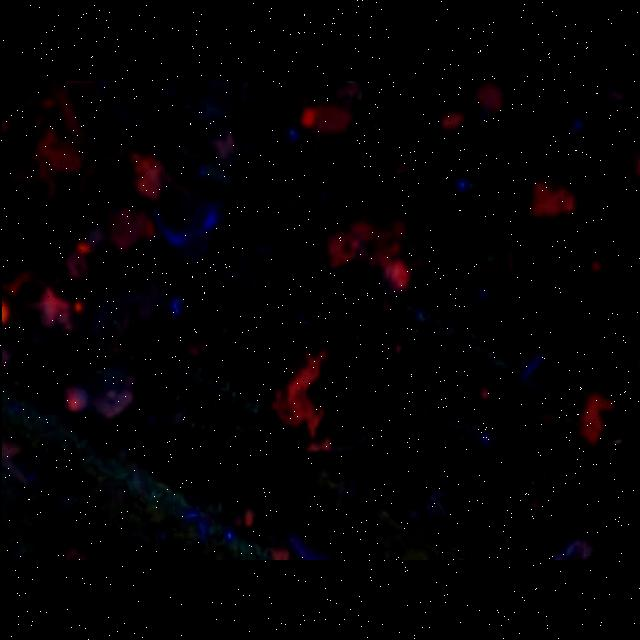Fragment: (529, 183, 574, 217)
